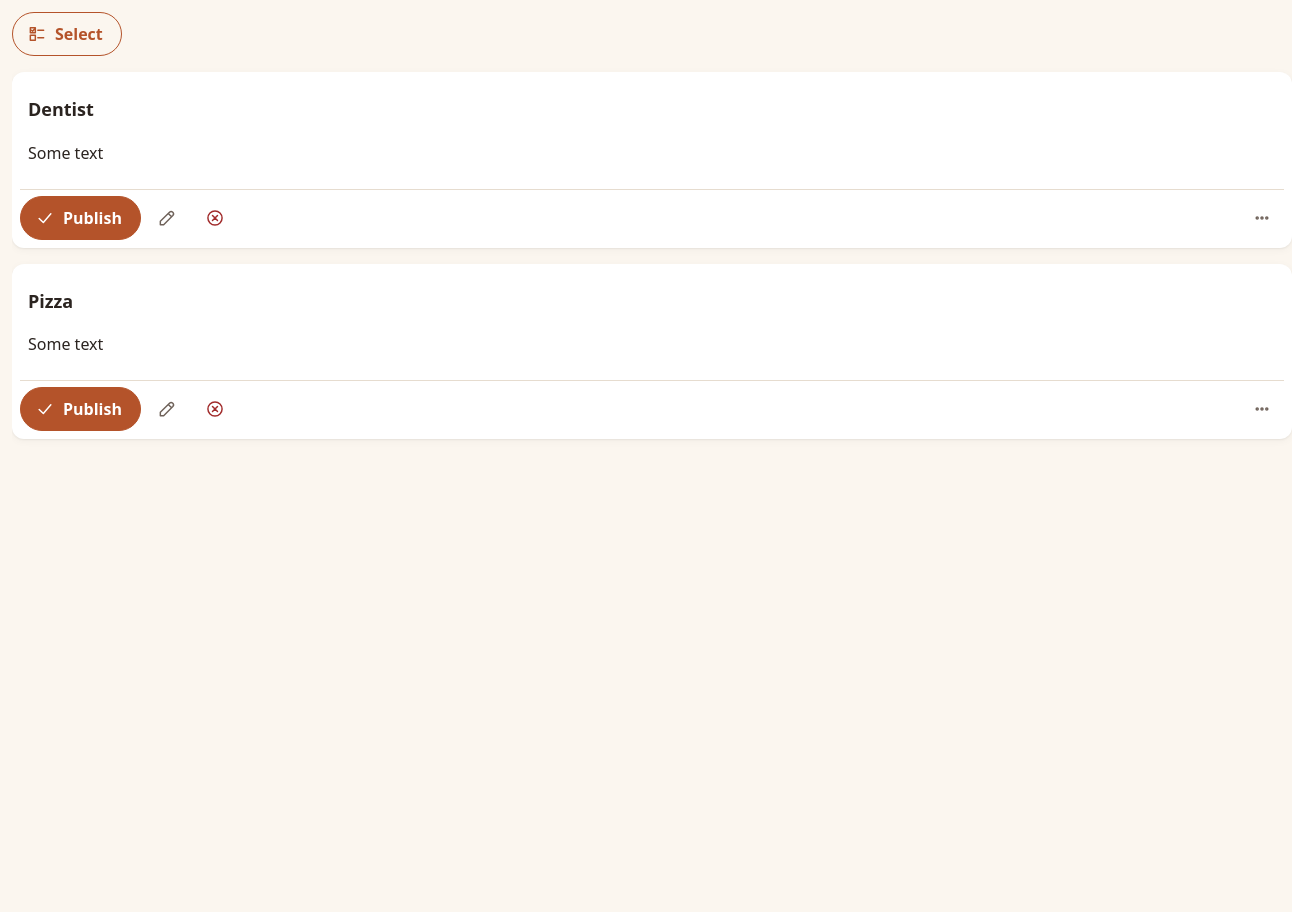
Test case: ReviewQueue › select mode (D191) › publishes only the ticked proposals
Step 1. Click the button "Select" → click(67, 34), box top-left (12, 12), bottom-right (122, 56)
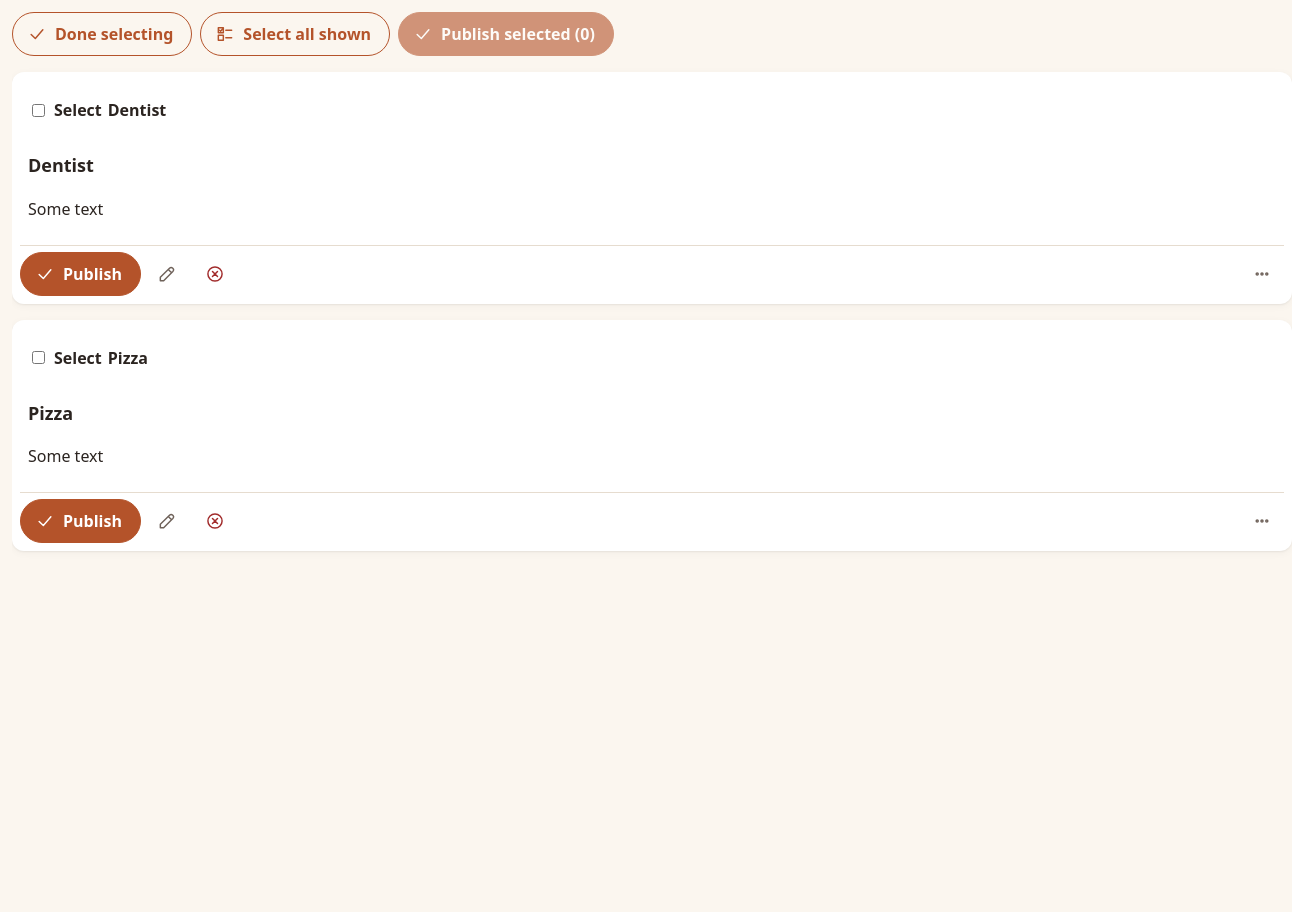
Check: the button "Publish selected (0)" is disabled, box top-left (398, 12), bottom-right (614, 56)
Step 2. Click the checkbox labelled "Select Pizza" → click(38, 358), box top-left (32, 351), bottom-right (45, 364)
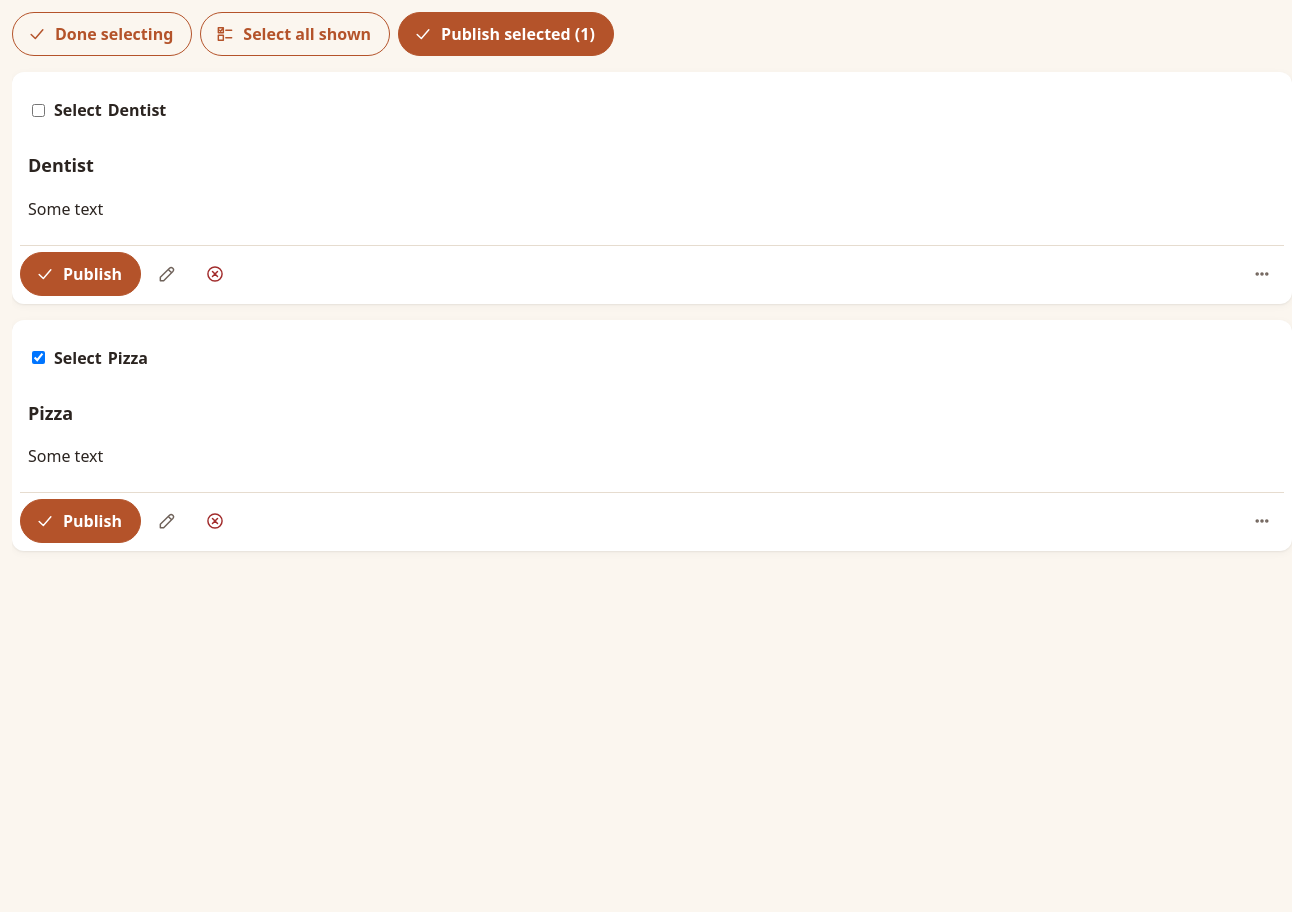
Step 3. Click the button "Publish selected (1)" → click(506, 34), box top-left (398, 12), bottom-right (614, 56)
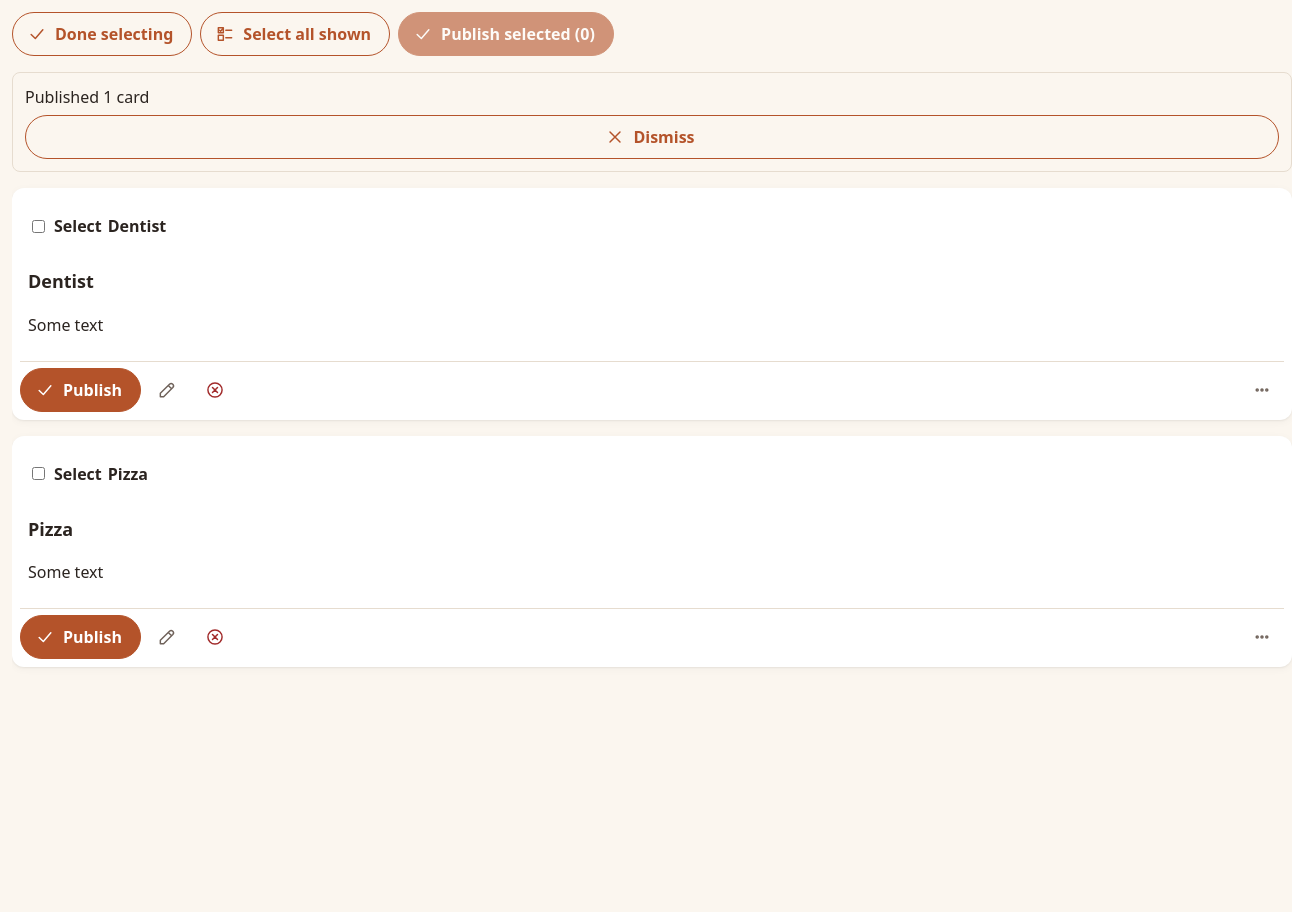
Check: the text "Published 1 card" is shown, box top-left (25, 86), bottom-right (149, 108)
